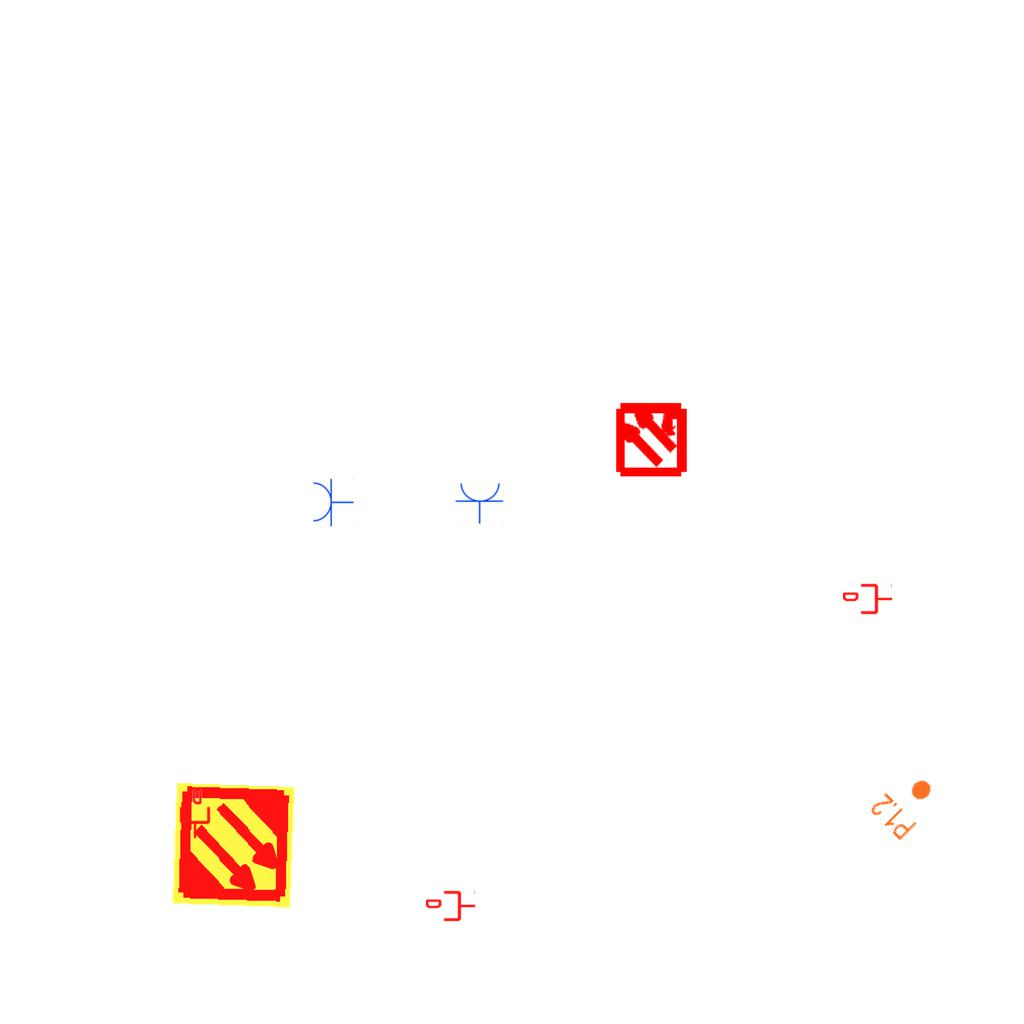ASR_Ansaugrauchmelder: (168, 780, 299, 911)
Datenanschluss_einfach: (426, 889, 476, 923), (843, 582, 893, 616), (178, 789, 212, 839)
Downlight_LED_Einbauleuchten_Flur: (867, 765, 945, 843)
OT_Multisensormelder_(Kombination_RMO_WMD): (595, 381, 708, 494)
Schukosteckdose_einfach: (311, 477, 354, 527), (455, 481, 505, 524)
